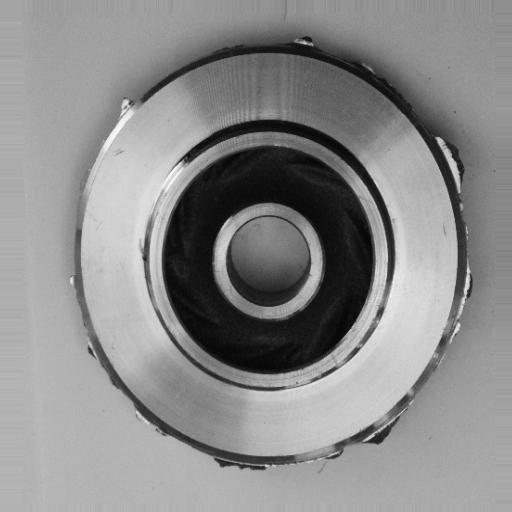casting_with_burr: (68, 32, 477, 475)
scratch: (137, 155, 186, 259)
